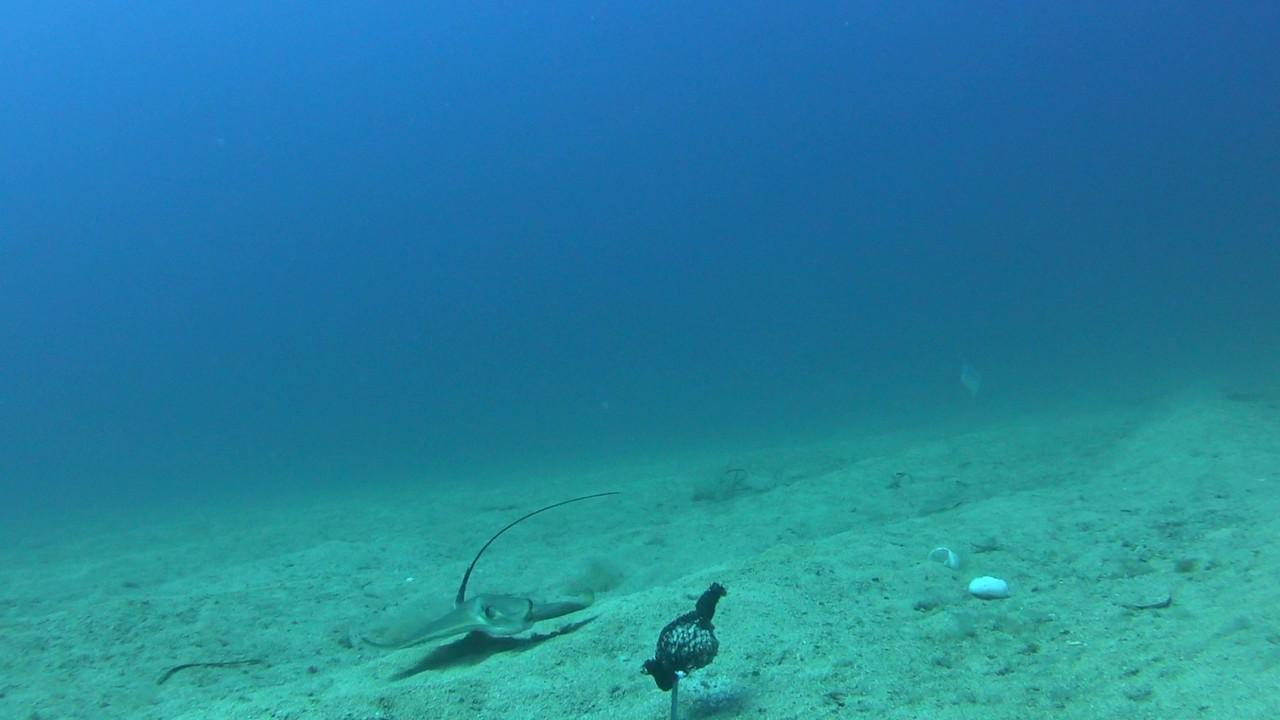myliobatis: (350, 472, 661, 652)
